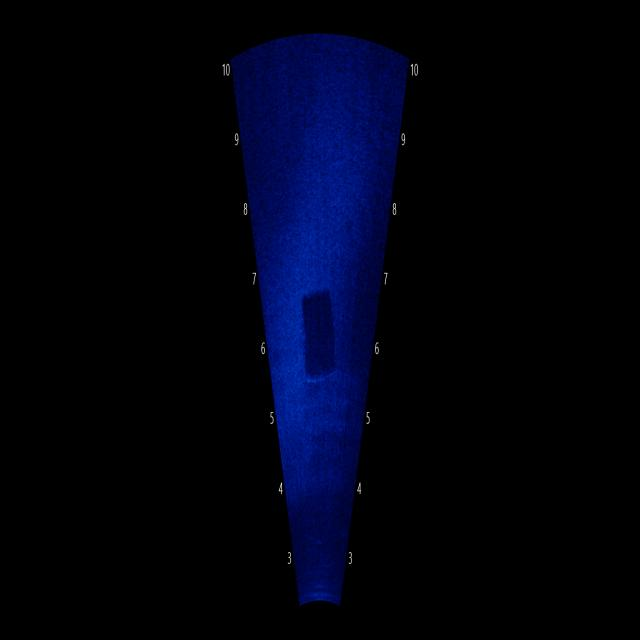square: (296, 272, 344, 402)
